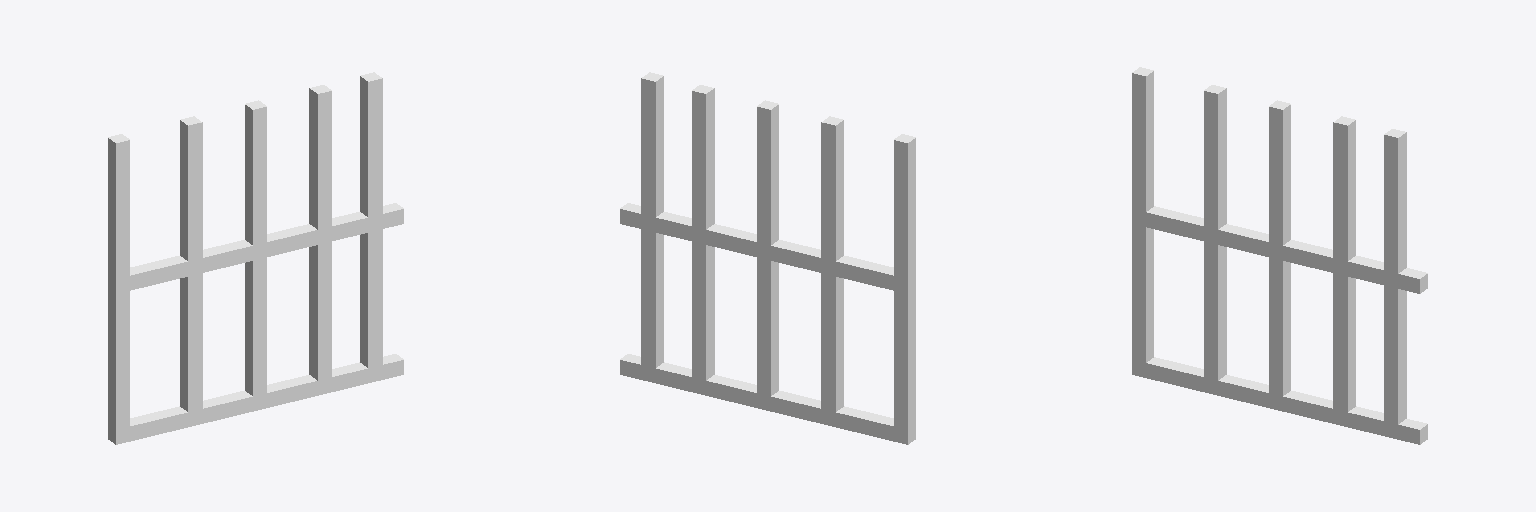
Rendered from BottomFencesRight.obj.
3 renders of one model, left to right at view 1: azimuth 30°, elevation 25°; view 2: azimuth 150°, elevation 25°; view 3: azimuth 330°, elevation 25°, orthographic.
Visible parts, largest first — view 1: object 1; view 2: object 1; view 3: object 1.
Boxes of the visible parts, <box> form: object 1: <box>108,72,403,444</box>; object 1: <box>620,72,915,444</box>; object 1: <box>1132,67,1427,444</box>.
Size of the model in its own units: 4 by 4 by 0.2.